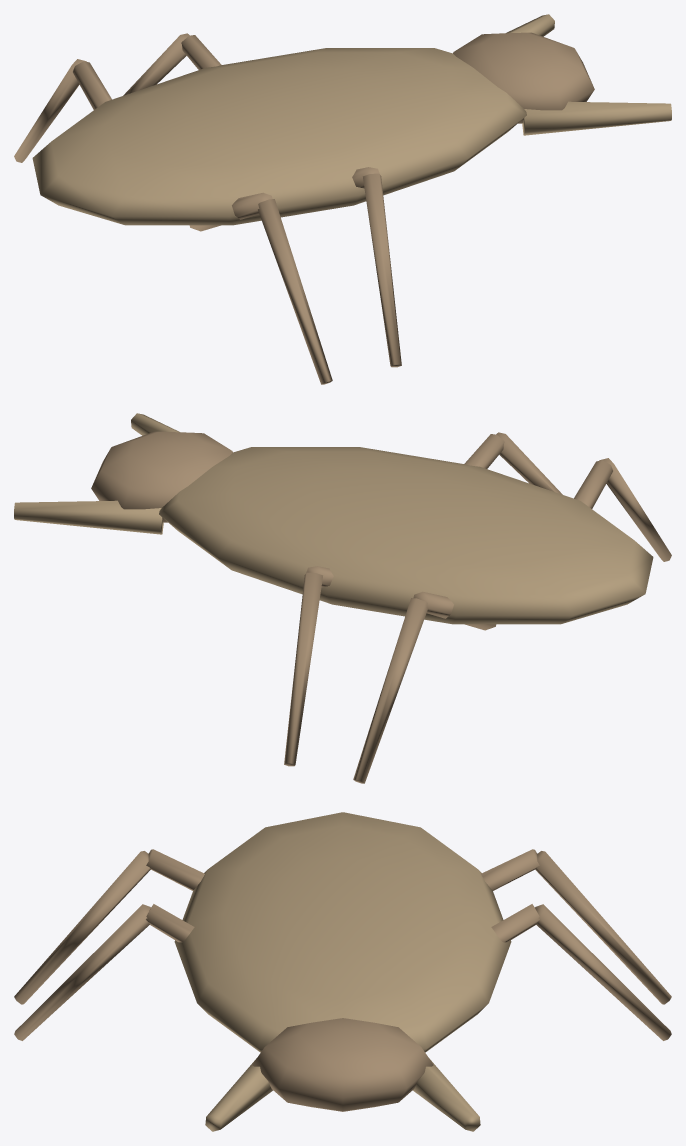
Rendered from brown-water-bug.glb.
3 views of the same model, one above another, from view 1: azimuth 30°, elevation 25°; view 2: azimuth 150°, elevation 25°; view 3: azimuth 270°, elevation 25° (orthographic). The views are drawn at different scales.
Parts seen in each view (by area): view 1: e; view 2: e; view 3: e.
Boxes of the visible parts, x1,y1,x2,y2 form: e: [14, 14, 671, 384]; e: [14, 413, 671, 783]; e: [14, 812, 671, 1131].
Bounding box in the file's own units: 0.3227 × 0.0809 × 0.3046.
